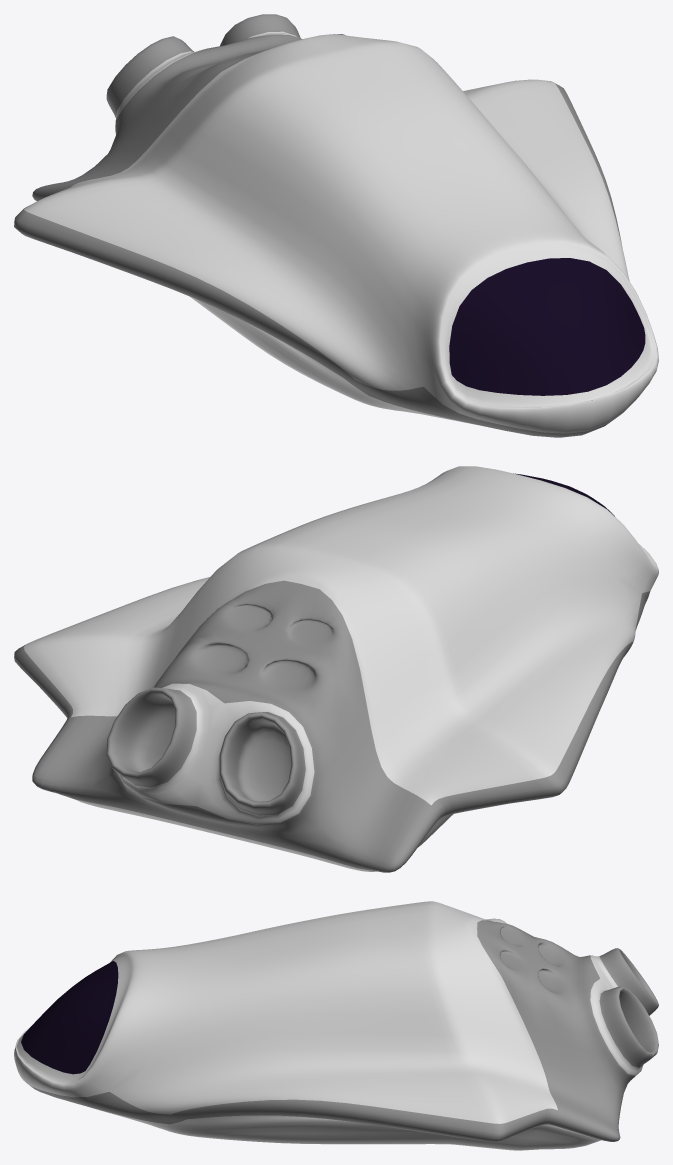
The model's file is Tank.glb.
3 renders of one model, top to bottom at view 1: azimuth 30°, elevation 25°; view 2: azimuth 150°, elevation 25°; view 3: azimuth 270°, elevation 25°, orthographic. The views are drawn at different scales.
Parts seen in each view (by area): view 1: Shell; view 2: Shell; view 3: Shell.
Boxes of the visible parts, x1=… form: Shell: x1=14, y1=14, x2=658, y2=437; Shell: x1=14, y1=466, x2=658, y2=872; Shell: x1=14, y1=901, x2=658, y2=1150.
Bounding box in the file's own units: 5.89 × 2.28 × 7.53.
